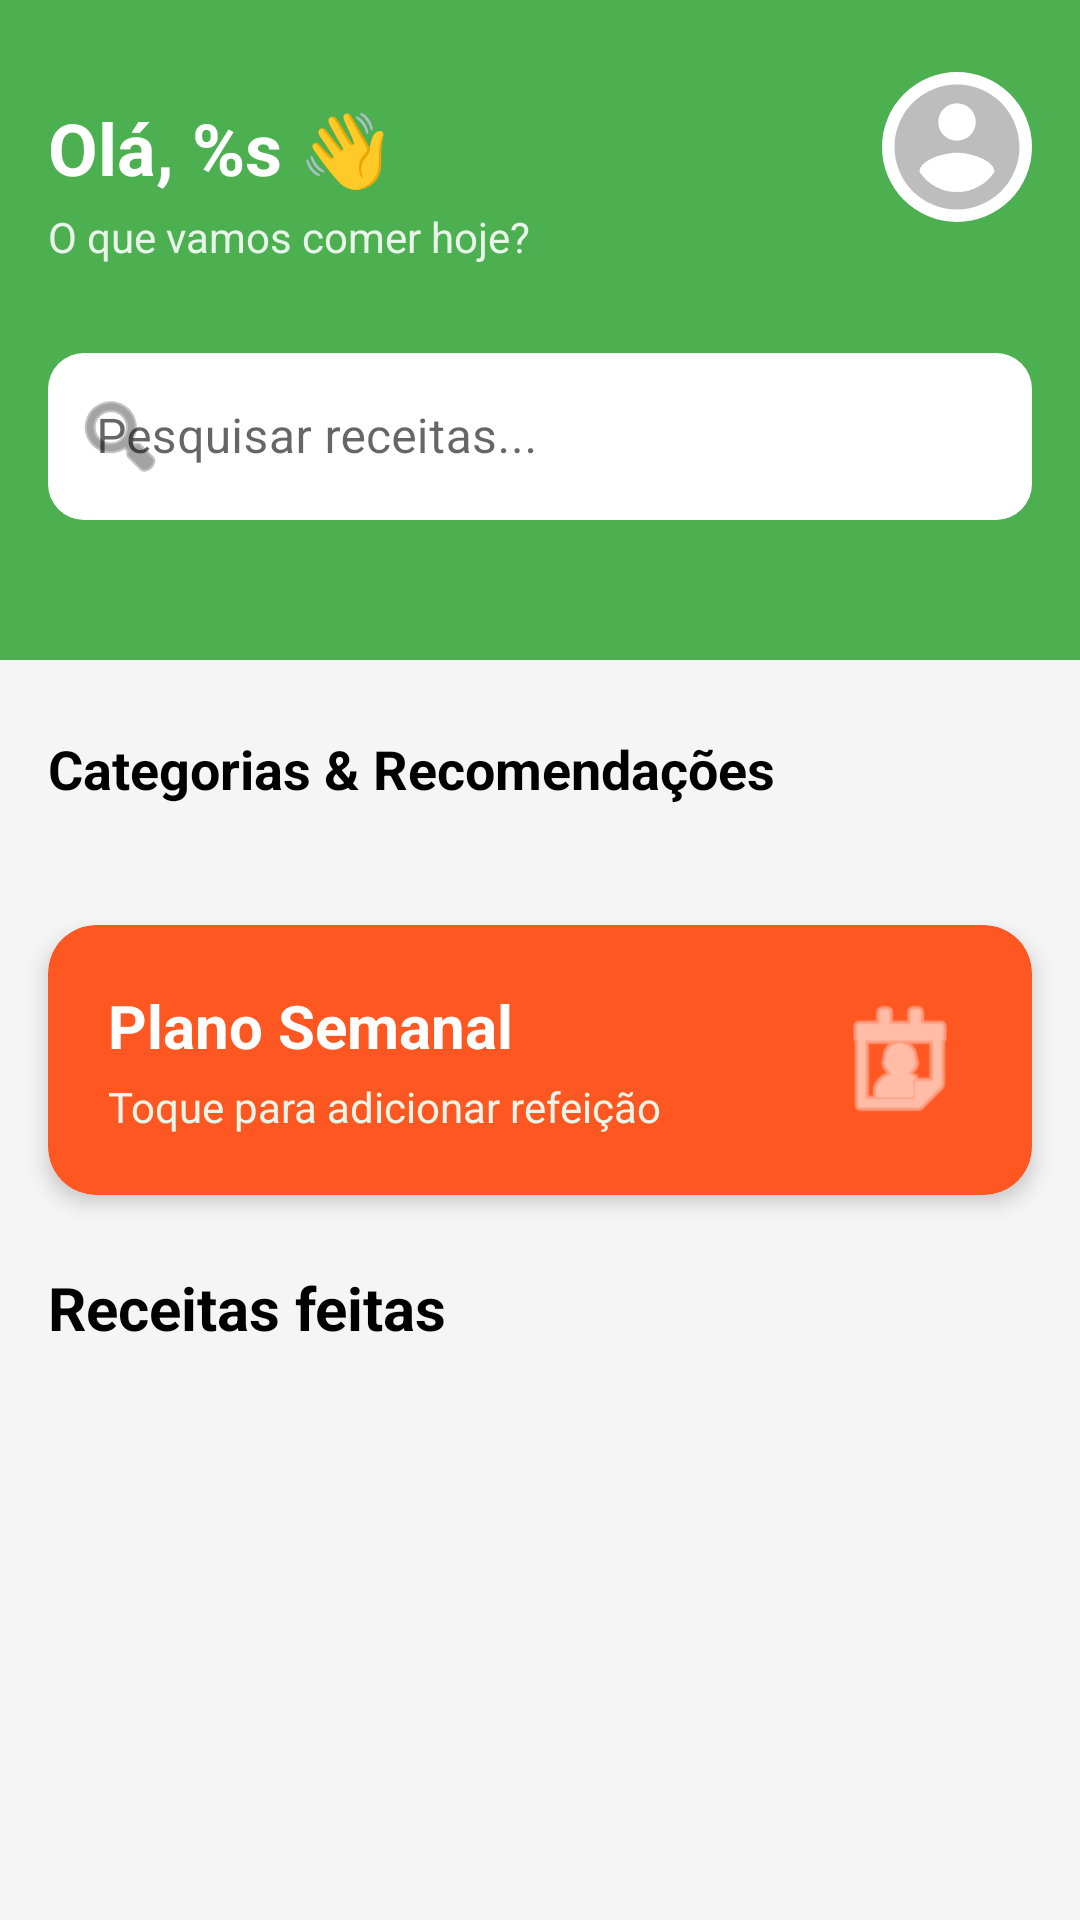

Icon click points for this 1080px×1920px phone screenshot, format [x,y]:
calendar: [900,1058]
